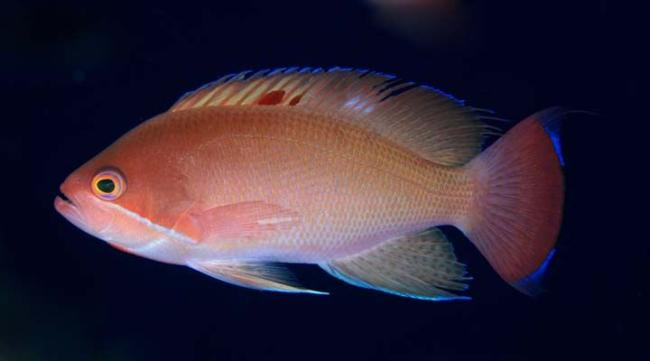fish: (52, 67, 566, 302)
